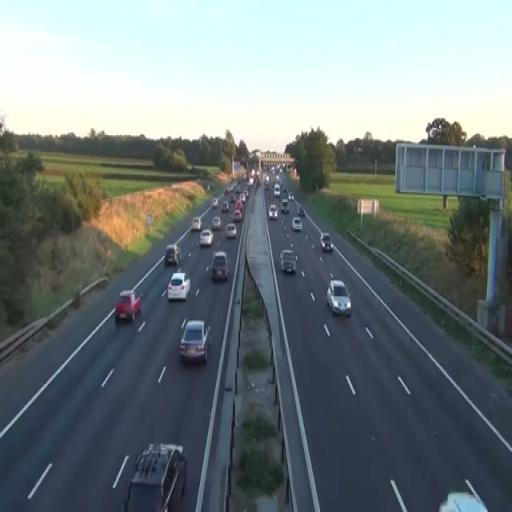Car: (179, 319, 212, 365), (326, 279, 352, 317), (116, 289, 142, 323), (167, 272, 191, 302), (211, 252, 230, 283), (280, 249, 298, 274), (165, 243, 181, 266), (199, 228, 213, 247), (320, 232, 332, 252), (211, 215, 222, 232), (226, 222, 236, 240), (292, 216, 303, 232)
Truck: (123, 442, 187, 512)
